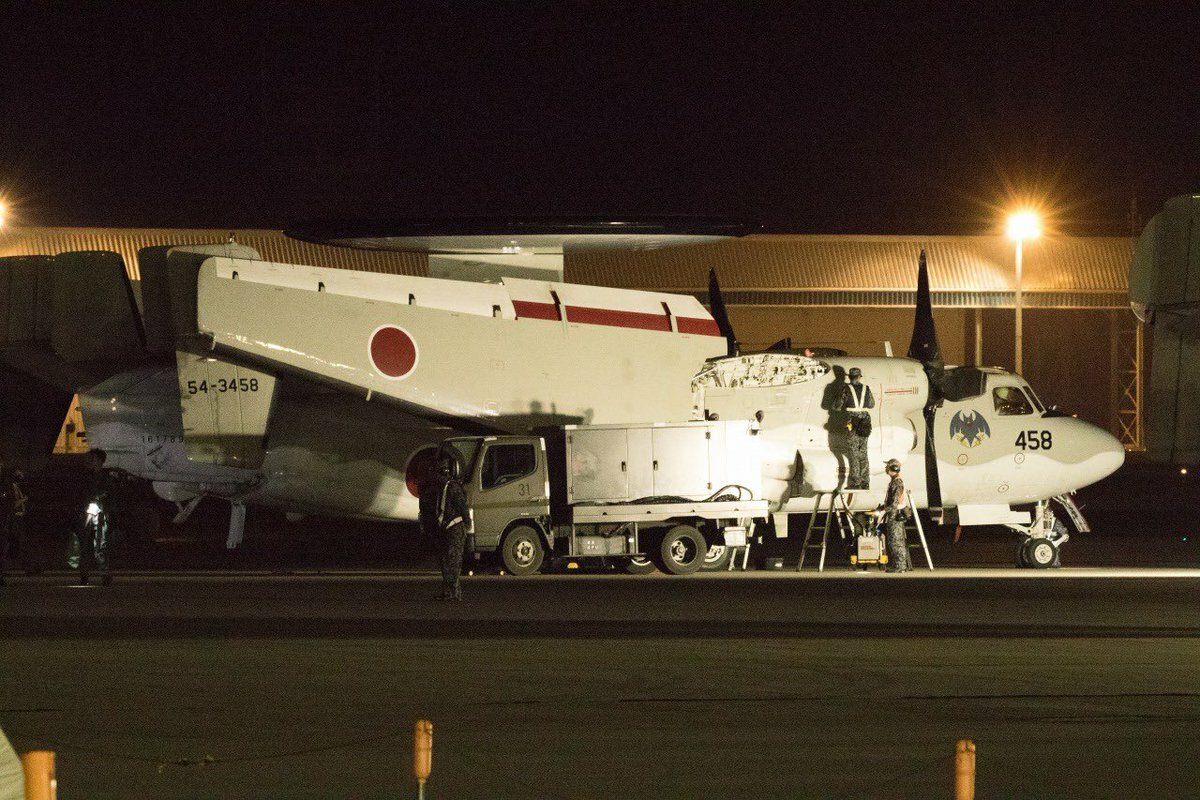E2: (1, 213, 1126, 574)
